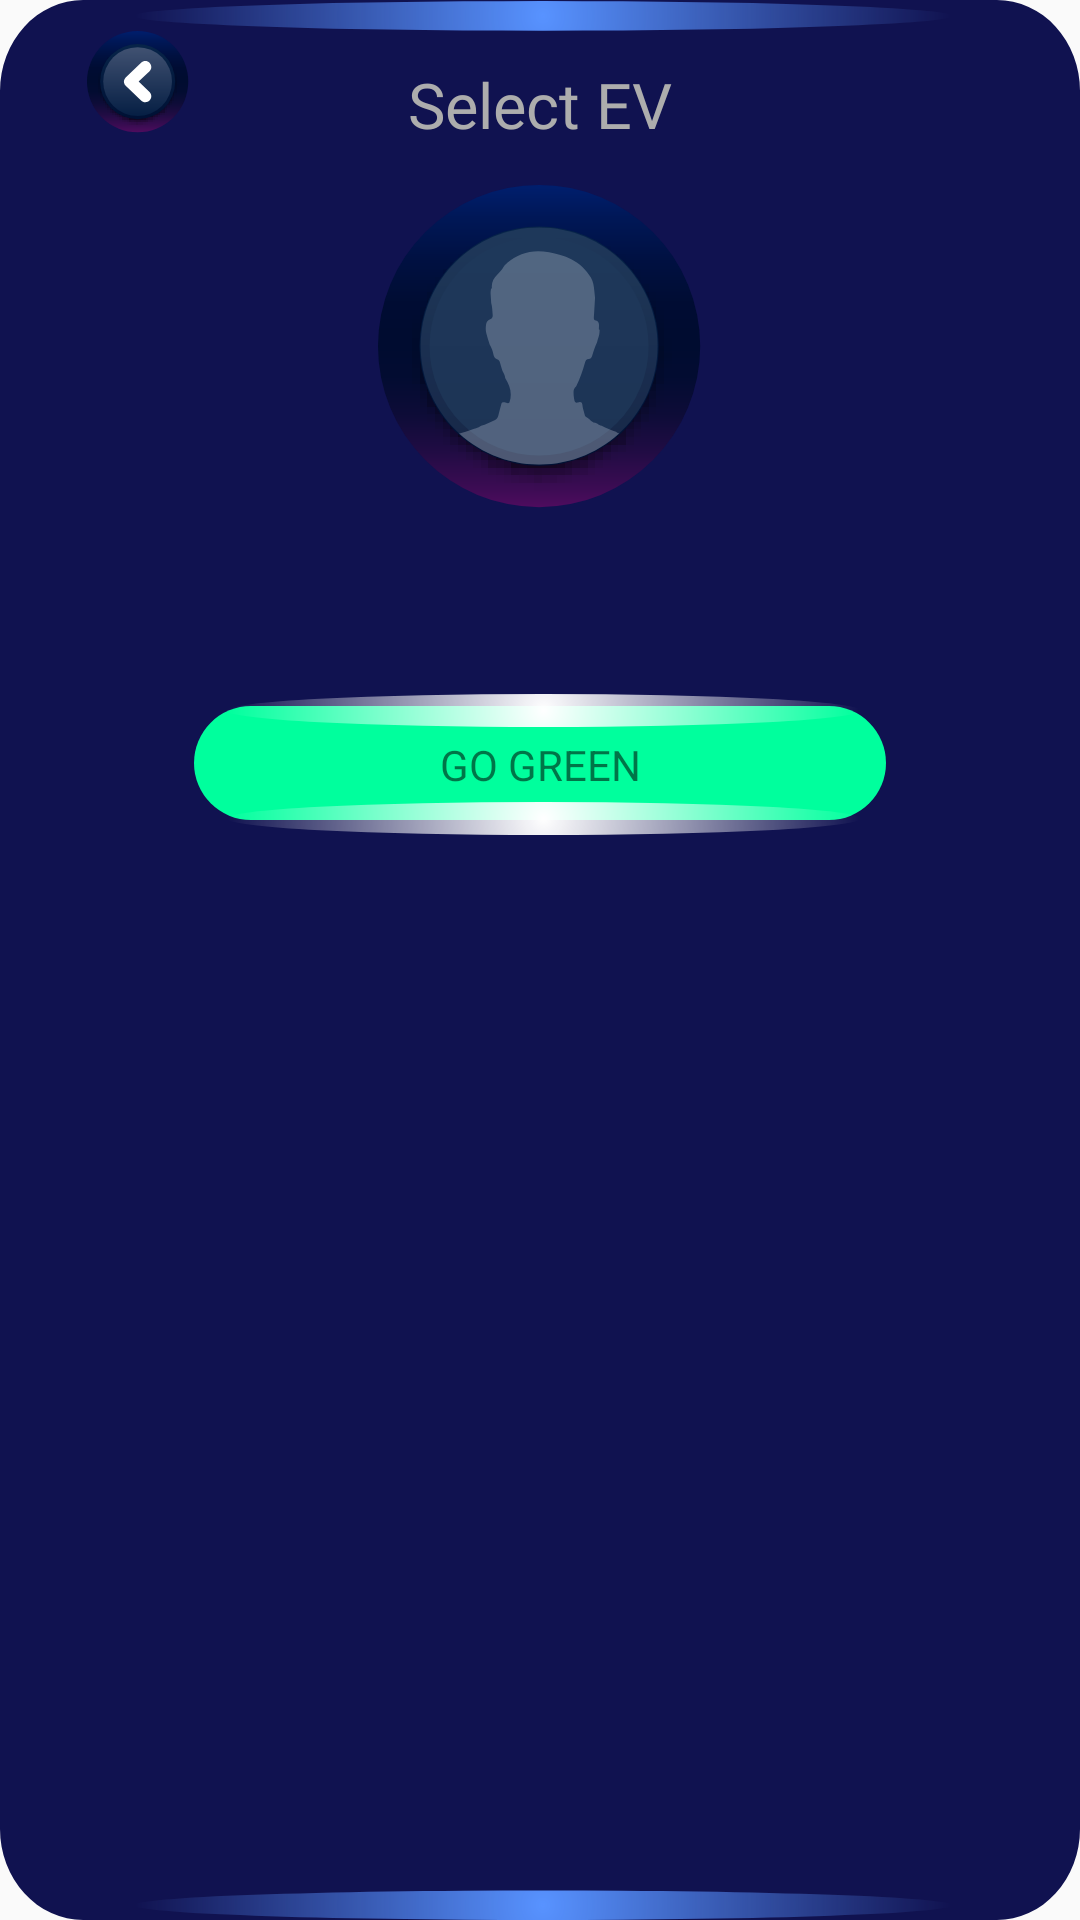

Screen size 1080px×1920px. Icon name, then its box in pixels as (x1,y1,x2,y2):
back: (87,31,188,132)
profile: (378,185,700,507)
